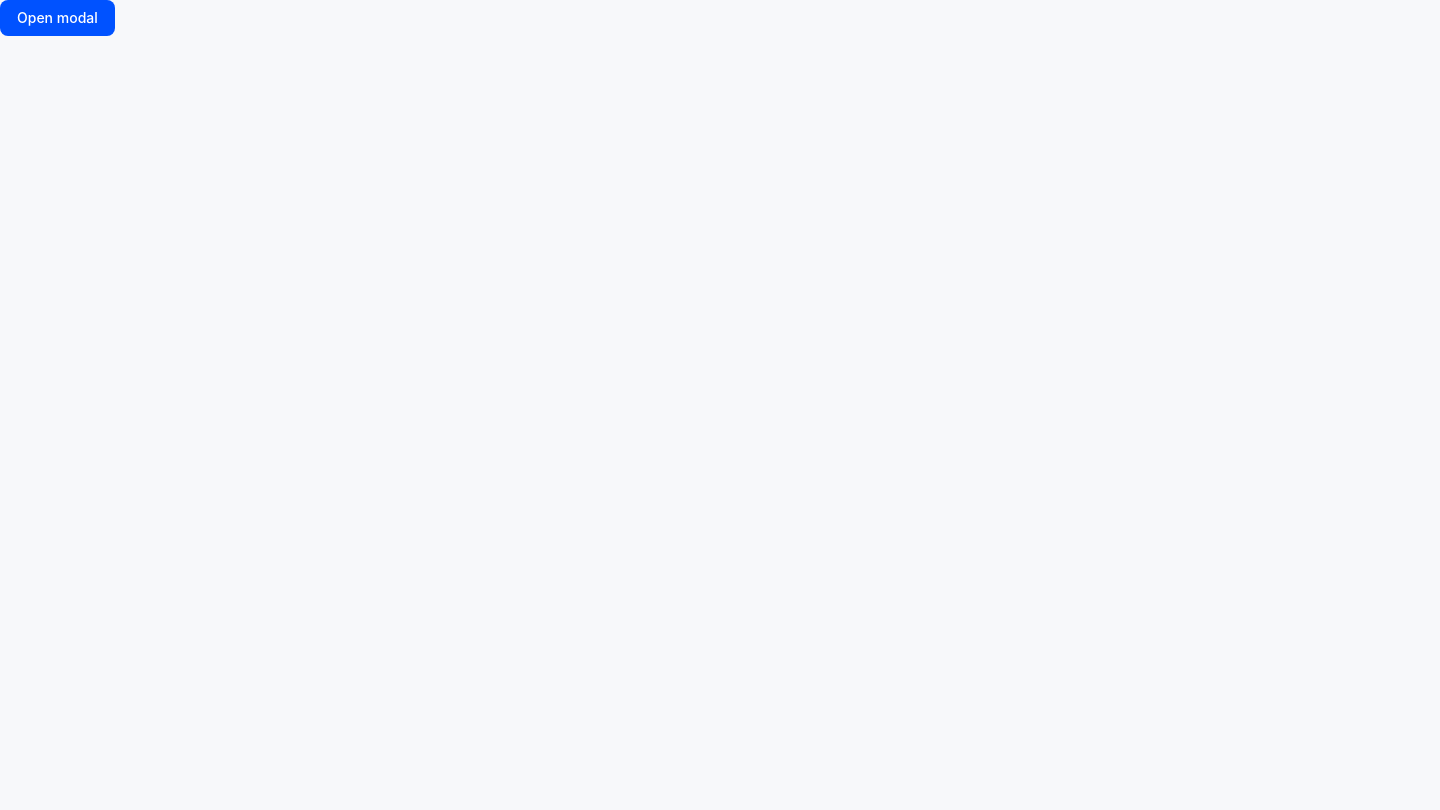
Test: Dialog (jsdom) › closes via the accessible close button
This screenshot has width=1440, height=810.
Click the button "Open modal" at (57, 18), box 0,0 -> 115,36
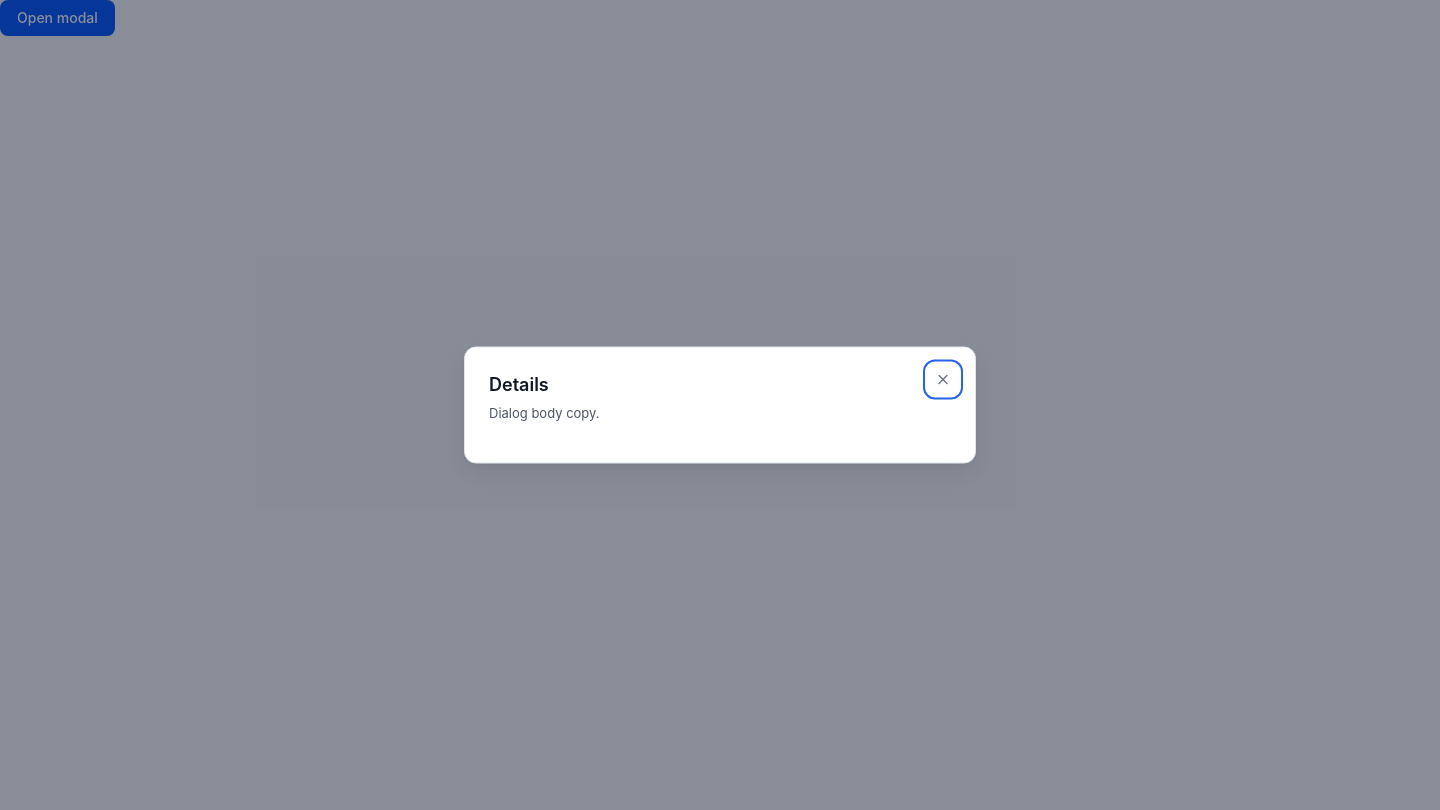
Check: the dialog "Details" is shown, box 464,346 -> 976,464
Click the button named "Close dialog" at (943, 380), box 927,364 -> 959,396
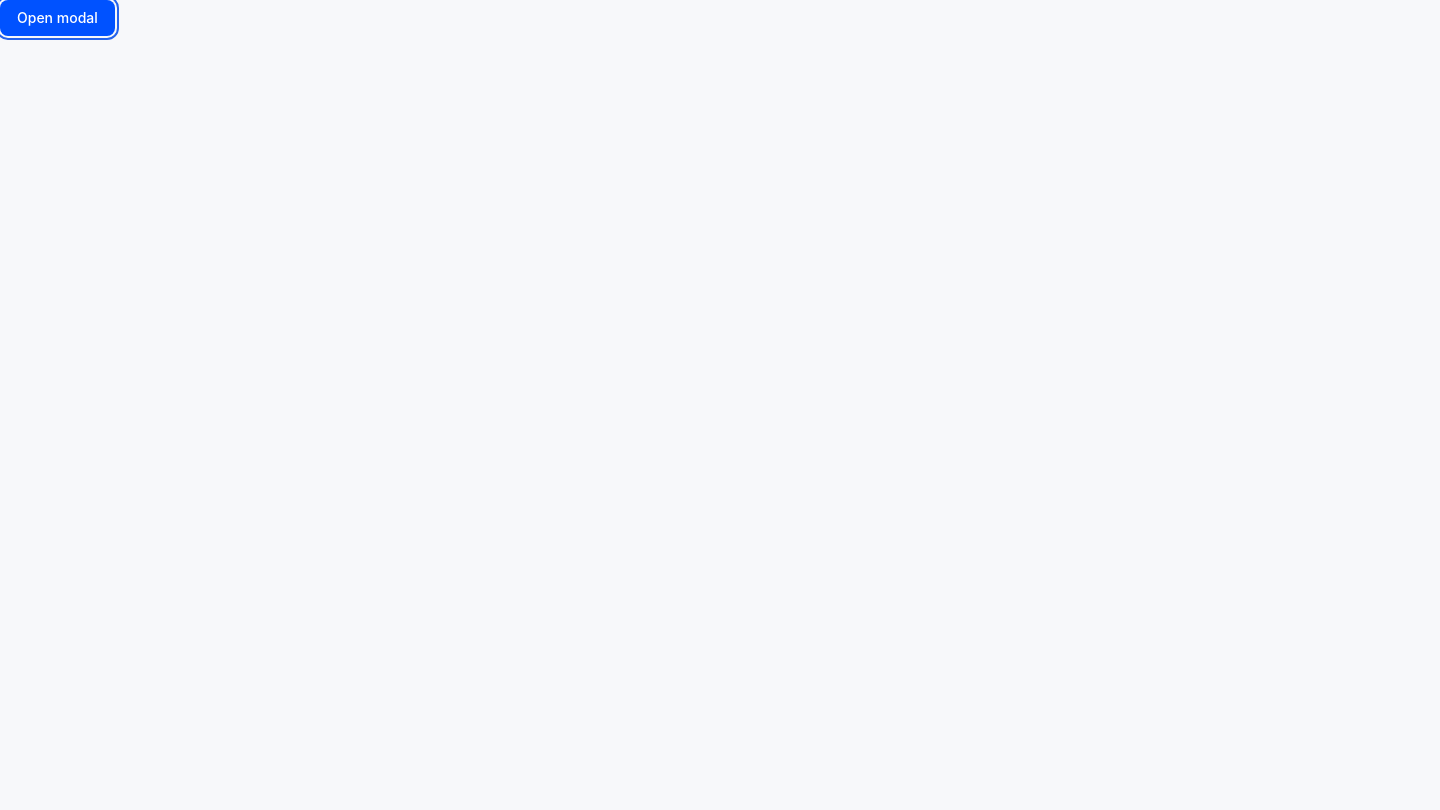
Check: the dialog is gone
